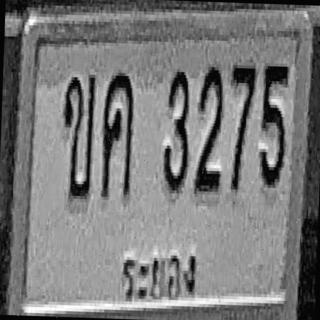A02: (60, 72, 96, 200)
A04: (100, 69, 134, 198)
N02: (194, 64, 224, 192)
N03: (162, 68, 191, 194)
N05: (258, 63, 288, 188)
N07: (227, 60, 256, 191)
P53: (117, 237, 202, 309)
